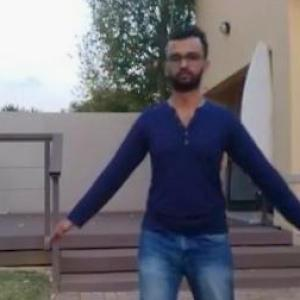land: (76, 57, 286, 299)
